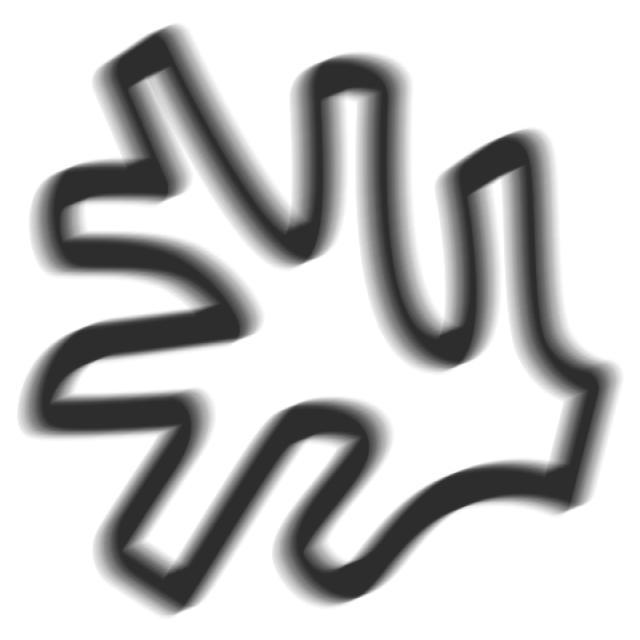coral: (10, 14, 633, 624)
